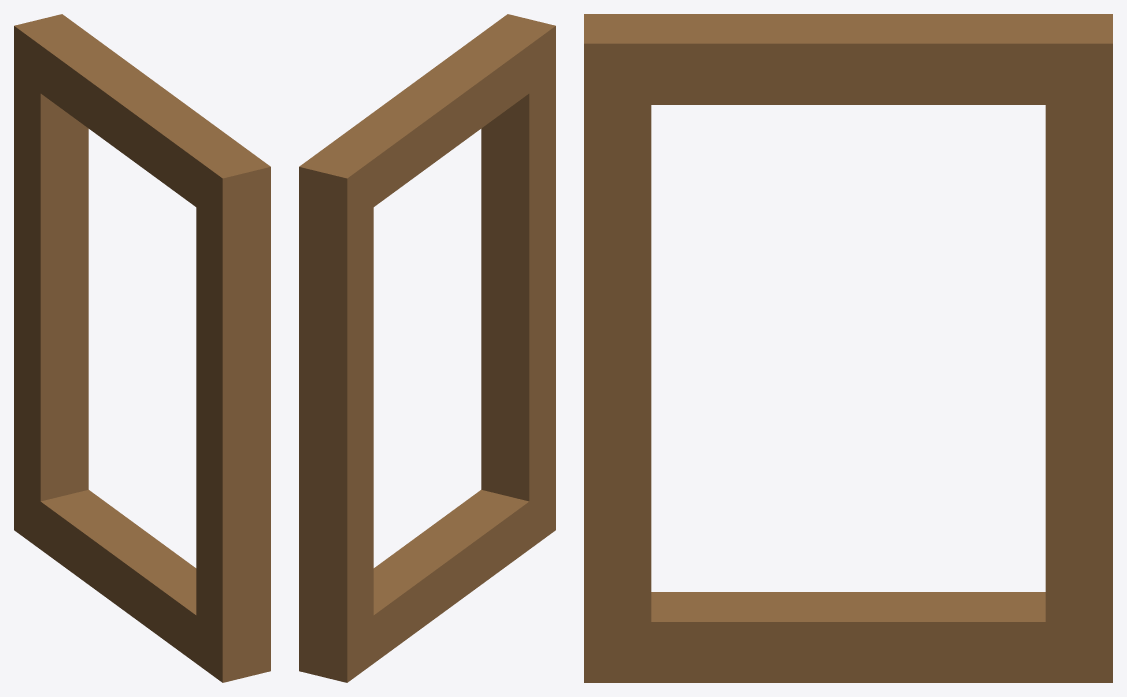
Rendered from modularBuildings_089.fbx.
3 renders of one model, left to right at view 1: azimuth 30°, elevation 25°; view 2: azimuth 150°, elevation 25°; view 3: azimuth 270°, elevation 25°, orthographic. The views are drawn at different scales.
Parts seen in each view (by area): view 1: Mesh1 Group1 Model; view 2: Mesh1 Group1 Model; view 3: Mesh1 Group1 Model.
Part boxes in pixels (x1=…): Mesh1 Group1 Model: x1=14, y1=14, x2=270, y2=682; Mesh1 Group1 Model: x1=299, y1=14, x2=555, y2=682; Mesh1 Group1 Model: x1=584, y1=14, x2=1112, y2=682.
Size of the model in its own units: 0.05 by 0.5 by 0.375.
